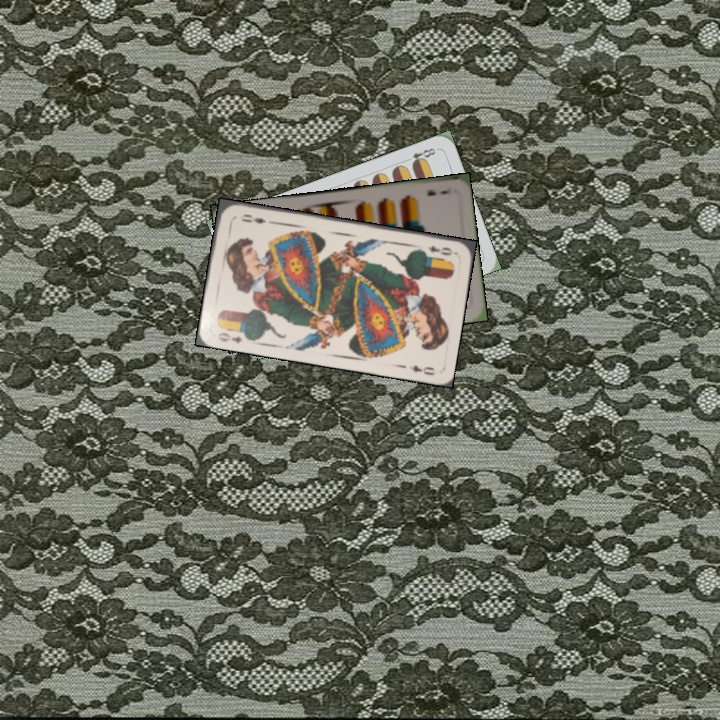E7: (423, 183, 454, 199)
E8: (400, 144, 438, 168)
EO: (214, 328, 245, 346), (424, 242, 458, 258)
